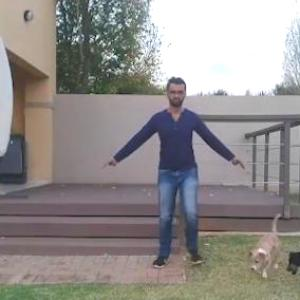land: (93, 88, 242, 256)
